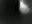person: (20, 1, 31, 17)
